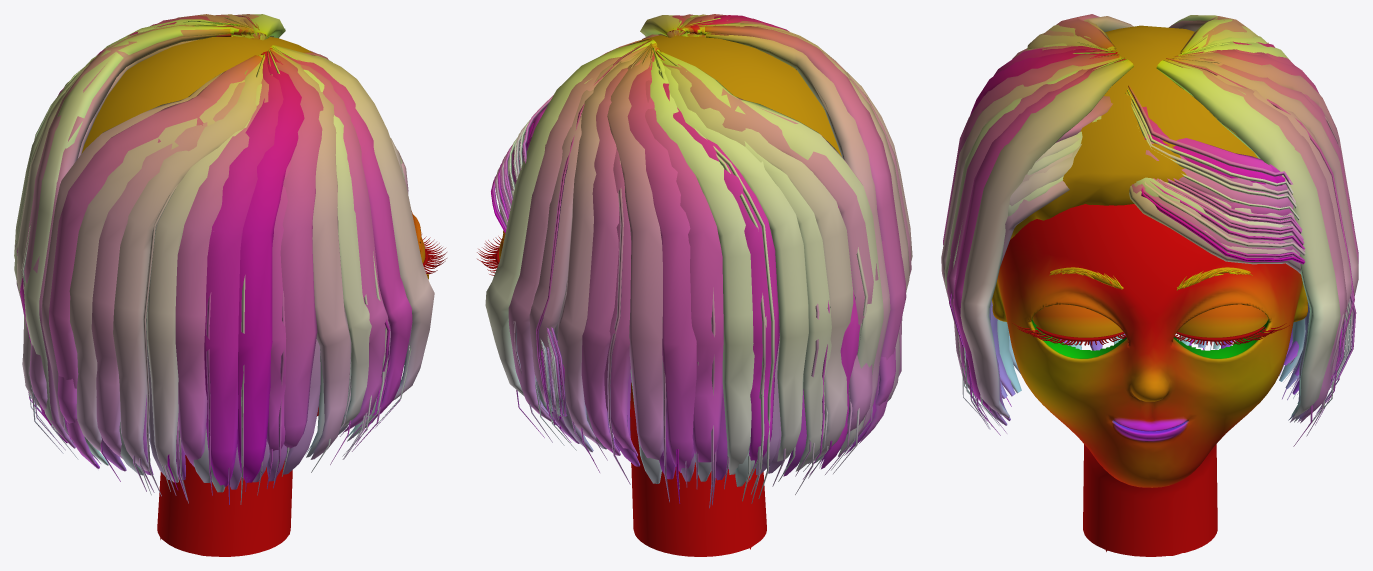
The model's file is madre.glb.
3 views of the same model, side by side, from view 1: azimuth 30°, elevation 25°; view 2: azimuth 150°, elevation 25°; view 3: azimuth 270°, elevation 25° (orthographic).
Visible parts, largest first — view 1: pelo, cara, hebras, parpados; view 2: pelo, hebras, cara; view 3: pelo, cara, hebras, parpados.
Boxes of the visible parts, <box> form: pelo: <box>14,14,434,492</box>; cara: <box>157,211,428,556</box>; hebras: <box>15,15,411,504</box>; parpados: <box>420,234,446,275</box>; pelo: <box>485,14,912,486</box>; hebras: <box>491,17,877,508</box>; cara: <box>502,230,766,556</box>; pelo: <box>941,14,1358,425</box>; cara: <box>992,204,1307,556</box>; hebras: <box>949,30,1356,446</box>; parpados: <box>1013,304,1289,345</box>.
Bounding box in the file's own units: 0.2716 × 0.3368 × 0.2581.
